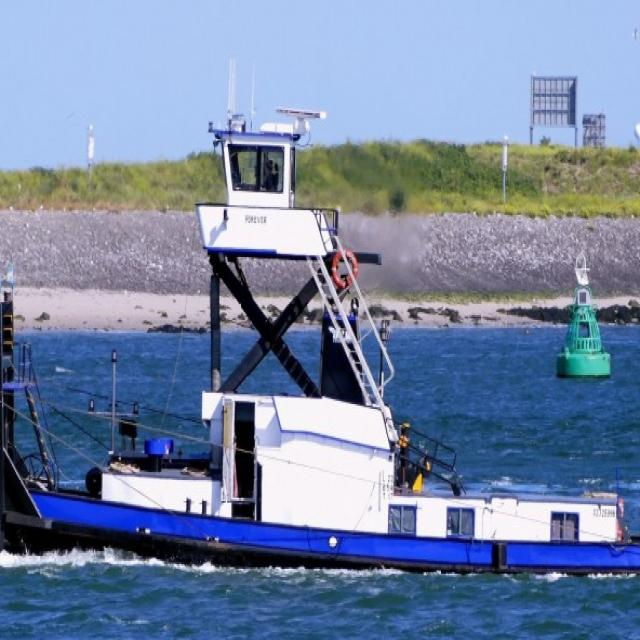tugboat: (1, 101, 640, 589)
